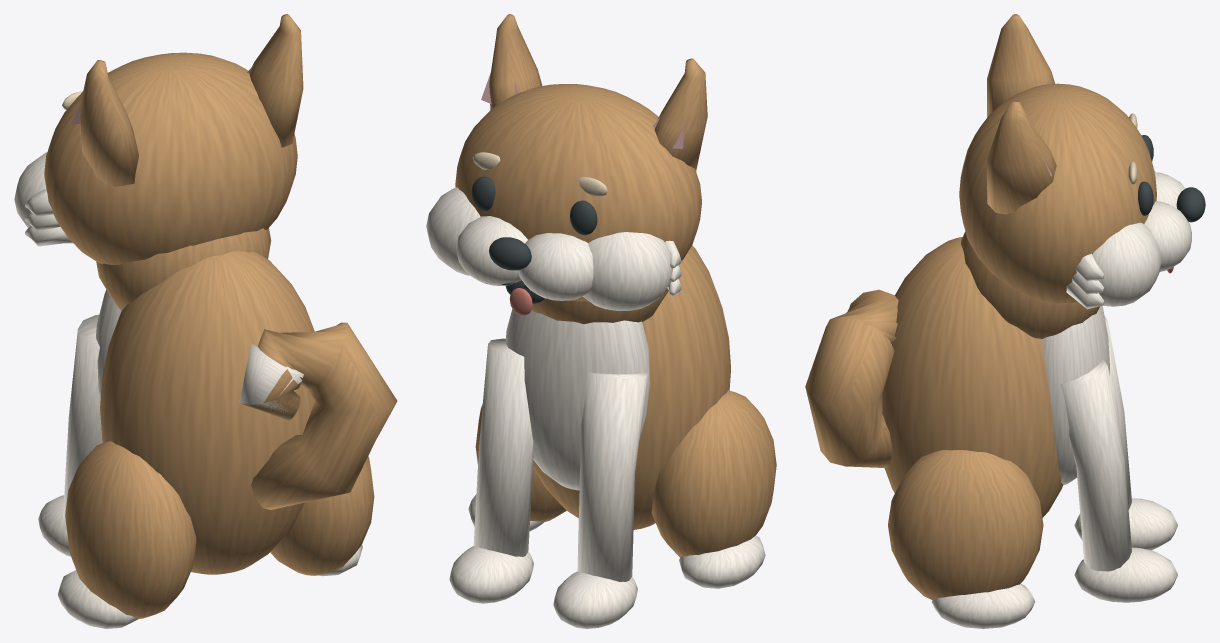
Rendered from test_b_dog.glb.
3 views of the same model, side by side, from view 1: azimuth 30°, elevation 25°; view 2: azimuth 150°, elevation 25°; view 3: azimuth 270°, elevation 25° (orthographic). The views are drawn at different scales.
Visible parts, largest first — view 1: Body; view 2: Body; view 3: Body.
Part boxes in pixels (box(x1,y1,x2,y2)): Body: box(14, 14, 397, 628); Body: box(426, 14, 776, 628); Body: box(805, 14, 1205, 628).
Size of the model in its own units: 0.1935 by 0.35 by 0.2463.
Materials: 7 (7 with a texture image).
